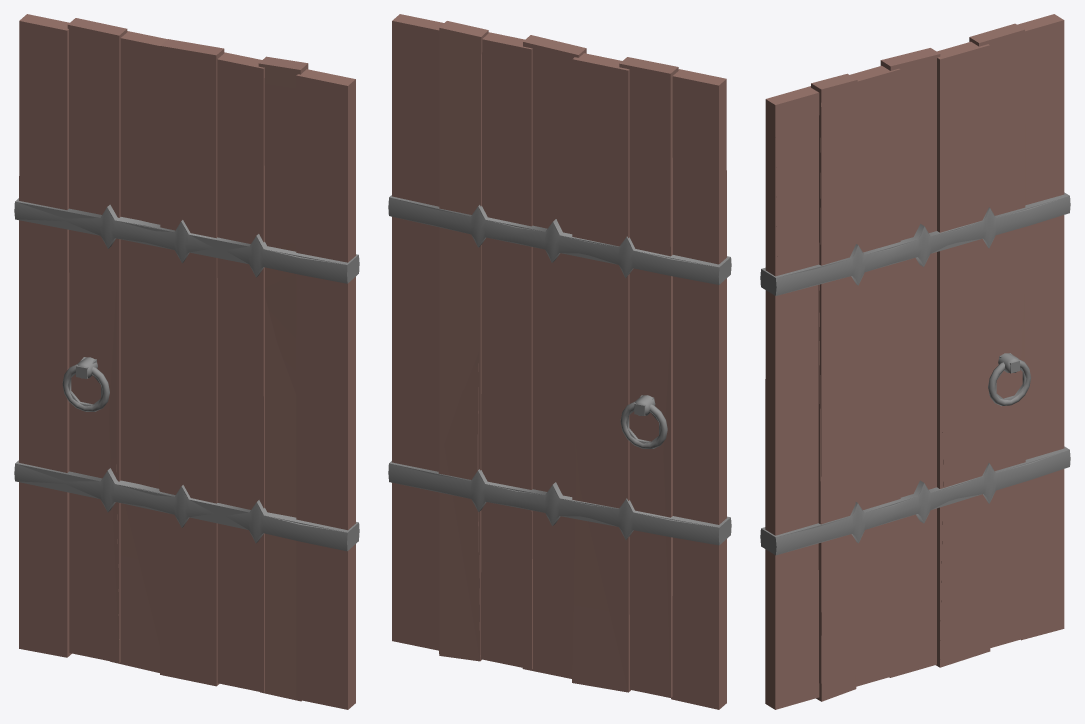
Rendered from Wooden_Door_1.fbx.
The picture shows the model from 3 angles, left to right: view 1: azimuth 30°, elevation 25°; view 2: azimuth 210°, elevation 25°; view 3: azimuth 270°, elevation 25°; orthographic projection. The views are drawn at different scales.
Visible parts, largest first — view 1: Wooden_Door_1_LOD0, Wooden_Door_1; view 2: Wooden_Door_1_LOD0, Wooden_Door_1; view 3: Wooden_Door_1_LOD0, Wooden_Door_1.
Boxes of the visible parts, box(x1,y1,x2,y2) form: Wooden_Door_1_LOD0: box(15, 14, 358, 709); Wooden_Door_1: box(14, 63, 359, 700); Wooden_Door_1_LOD0: box(389, 14, 730, 709); Wooden_Door_1: box(388, 45, 731, 697); Wooden_Door_1_LOD0: box(761, 14, 1069, 709); Wooden_Door_1: box(760, 83, 1070, 701).
Bounding box in the file's own units: 0.7287 × 2.18 × 0.9994.
